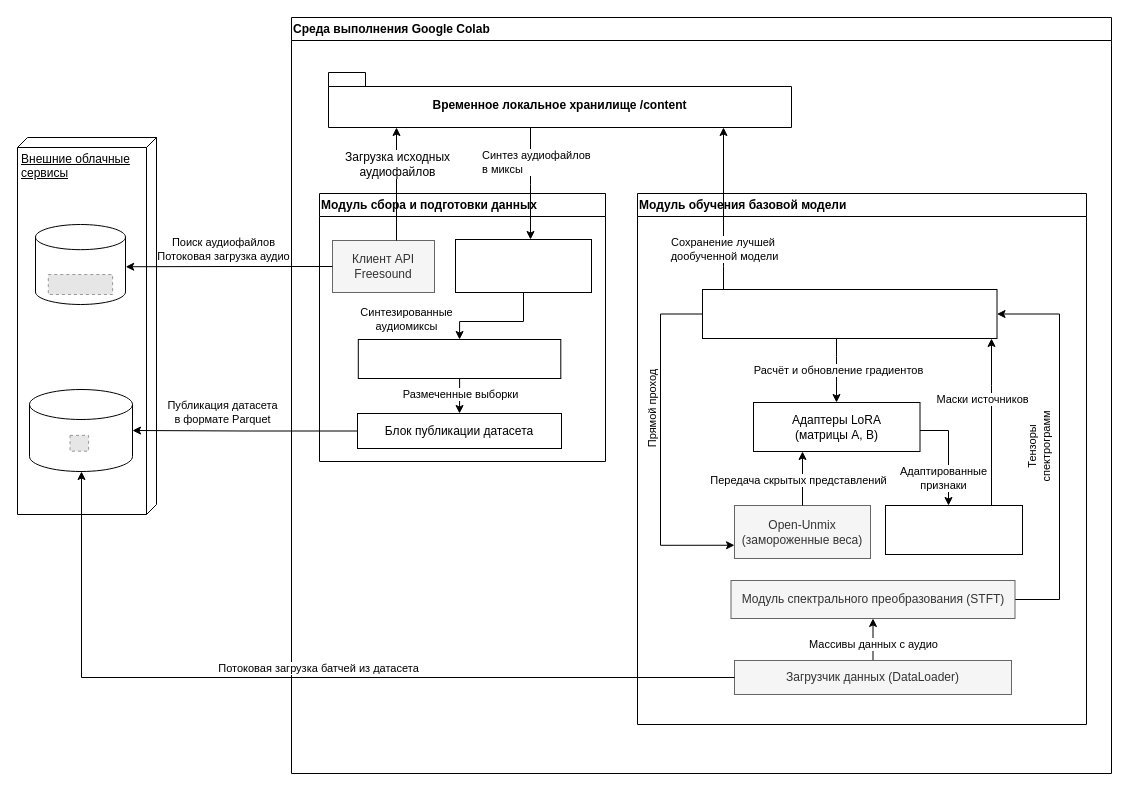
Some shapes in this 1129 by 791 pixel diagram are drawn without their labels. Grey dashed boxes stand in for pictures. The box of each missing label's shape, as (x1, y1, x2, y2) in pixels:
Freesound API: (34, 224, 126, 304)
HuggingFace Hub (репозиторий датасета): (28, 388, 132, 472)
Блок управления дообучением (оптимизатор AdamW + ф-я потерь L1 loss): (702, 288, 997, 338)
Блок формирования выборок (train/val/test): (357, 338, 561, 378)
Выходной слой разделения: (884, 504, 1022, 554)
Генератор миксов аудиофайлов: (454, 238, 592, 292)
